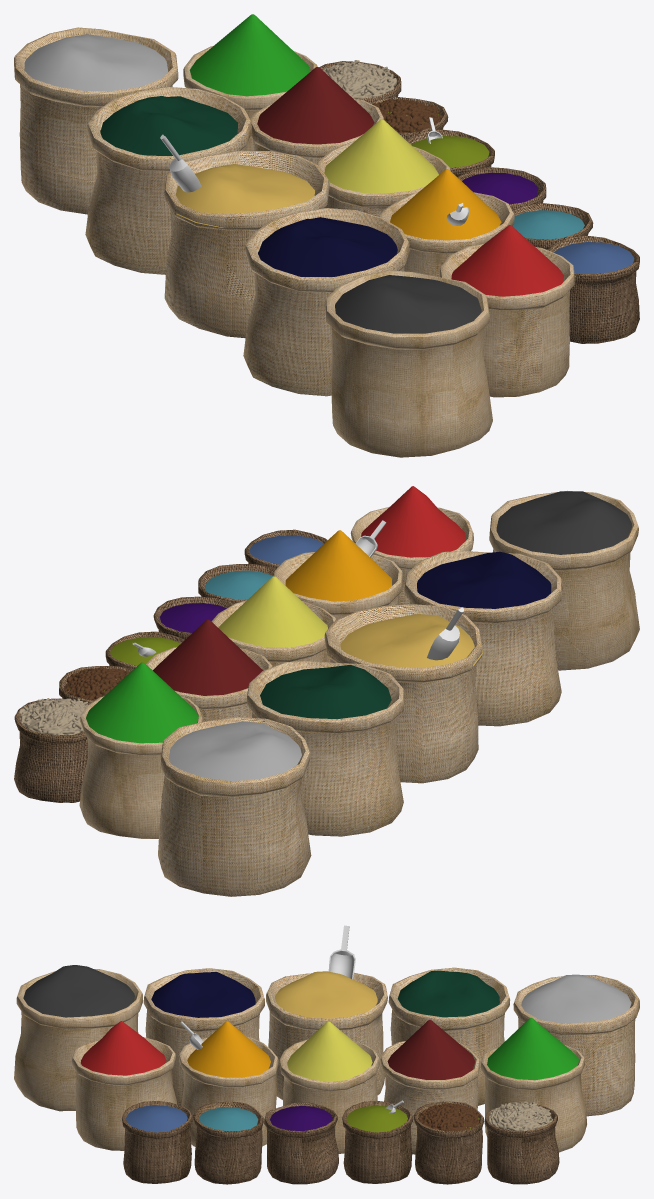
The model's file is spice_market.glb.
The picture shows the model from 3 angles, top to bottom: view 1: azimuth 30°, elevation 25°; view 2: azimuth 150°, elevation 25°; view 3: azimuth 270°, elevation 25°; orthographic projection. The views are drawn at different scales.
Parts seen in each view (by area): view 1: Object_20, Object_18, Object_2, Object_12, Object_8, Object_15, Object_6, Object_14, Object_16, Object_13, Object_9, Object_17 (+7 smaller); view 2: Object_20, Object_18, Object_2, Object_12, Object_8, Object_6, Object_15, Object_14, Object_13, Object_16, Object_17, Object_9 (+7 smaller); view 3: Object_20, Object_18, Object_2, Object_12, Object_15, Object_13, Object_8, Object_6, Object_14, Object_16, Object_17, Object_9 (+7 smaller).
Boxes of the visible parts, x1=… form: Object_20: x1=14, y1=27, x2=574, y2=457; Object_18: x1=319, y1=61, x2=639, y2=343; Object_2: x1=335, y1=275, x2=481, y2=333; Object_12: x1=24, y1=34, x2=167, y2=90; Object_8: x1=258, y1=217, x2=397, y2=276; Object_15: x1=100, y1=96, x2=237, y2=155; Object_6: x1=189, y1=14, x2=310, y2=96; Object_14: x1=257, y1=67, x2=374, y2=144; Object_16: x1=324, y1=119, x2=438, y2=193; Object_13: x1=175, y1=164, x2=314, y2=227; Object_9: x1=451, y1=225, x2=563, y2=296; Object_17: x1=390, y1=169, x2=501, y2=240; Object_20: x1=79, y1=490, x2=639, y2=896; Object_18: x1=14, y1=529, x2=327, y2=802; Object_2: x1=496, y1=491, x2=631, y2=554; Object_12: x1=169, y1=721, x2=301, y2=781; Object_8: x1=417, y1=551, x2=551, y2=608; Object_6: x1=86, y1=662, x2=198, y2=743; Object_15: x1=260, y1=665, x2=391, y2=719; Object_14: x1=153, y1=619, x2=263, y2=695; Object_13: x1=340, y1=614, x2=482, y2=667; Object_16: x1=218, y1=576, x2=327, y2=647; Object_17: x1=285, y1=530, x2=391, y2=601; Object_9: x1=361, y1=486, x2=465, y2=557; Object_20: x1=14, y1=967, x2=639, y2=1154; Object_18: x1=121, y1=1101, x2=559, y2=1184; Object_2: x1=23, y1=965, x2=134, y2=1017; Object_12: x1=521, y1=974, x2=631, y2=1023; Object_15: x1=397, y1=970, x2=499, y2=1017; Object_13: x1=275, y1=971, x2=377, y2=1018; Object_8: x1=151, y1=972, x2=255, y2=1017; Object_6: x1=487, y1=1018, x2=578, y2=1080; Object_14: x1=387, y1=1020, x2=474, y2=1079; Object_16: x1=287, y1=1021, x2=372, y2=1081; Object_17: x1=187, y1=1021, x2=270, y2=1077; Object_9: x1=80, y1=1021, x2=166, y2=1075.
Bounding box in the file's own units: 7.45 × 3.72 × 15.07.
19 materials, 2 textured.
